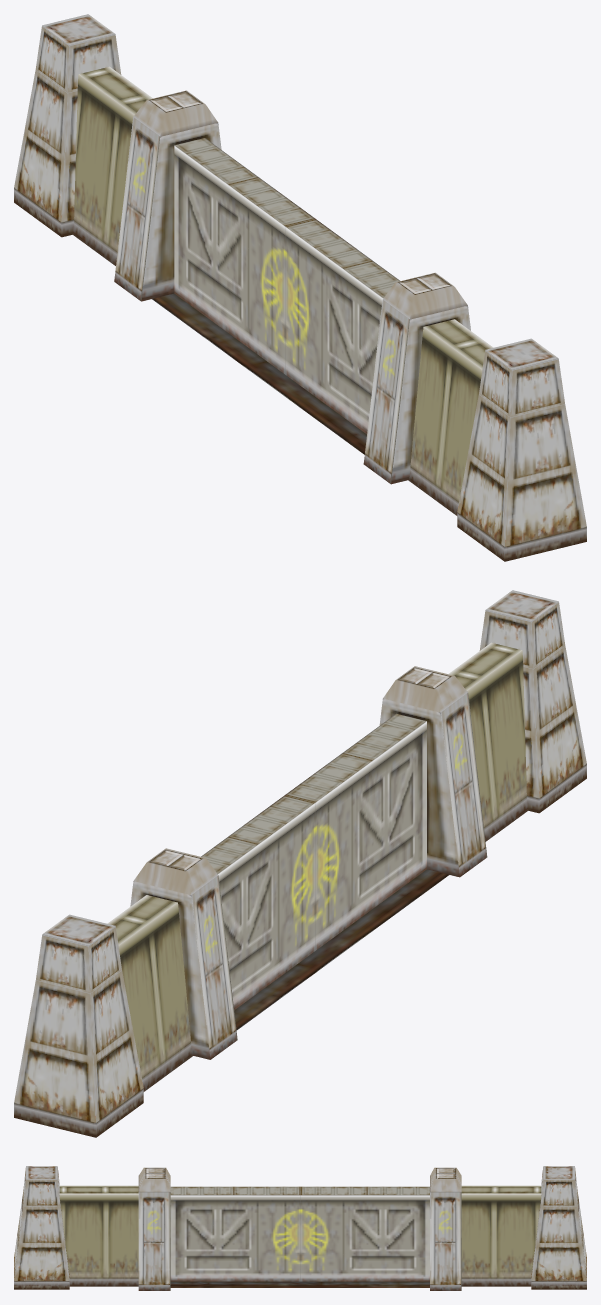
The model's file is d_mediumgate.glb.
3 renders of one model, top to bottom at view 1: azimuth 30°, elevation 25°; view 2: azimuth 150°, elevation 25°; view 3: azimuth 270°, elevation 25°, orthographic. The views are drawn at different scales.
Visible parts, largest first — view 1: D_MediumGate, D_MediumGateDoor; view 2: D_MediumGate, D_MediumGateDoor; view 3: D_MediumGate, D_MediumGateDoor.
Part boxes in pixels (x1,y1,x2,y2): D_MediumGate: [14, 14, 586, 561]; D_MediumGateDoor: [174, 138, 399, 434]; D_MediumGate: [14, 590, 586, 1137]; D_MediumGateDoor: [201, 713, 426, 1009]; D_MediumGate: [14, 1166, 586, 1290]; D_MediumGateDoor: [170, 1186, 429, 1281].
Bounding box in the file's own units: 6.4 × 11.6 × 56.74.
2 materials, 2 textured.
